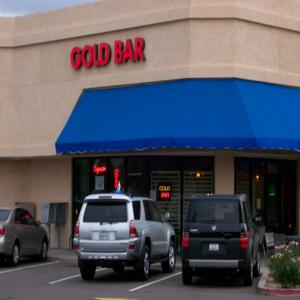Vehicle-registration-plate: (100, 233, 112, 242), (211, 244, 220, 251)
